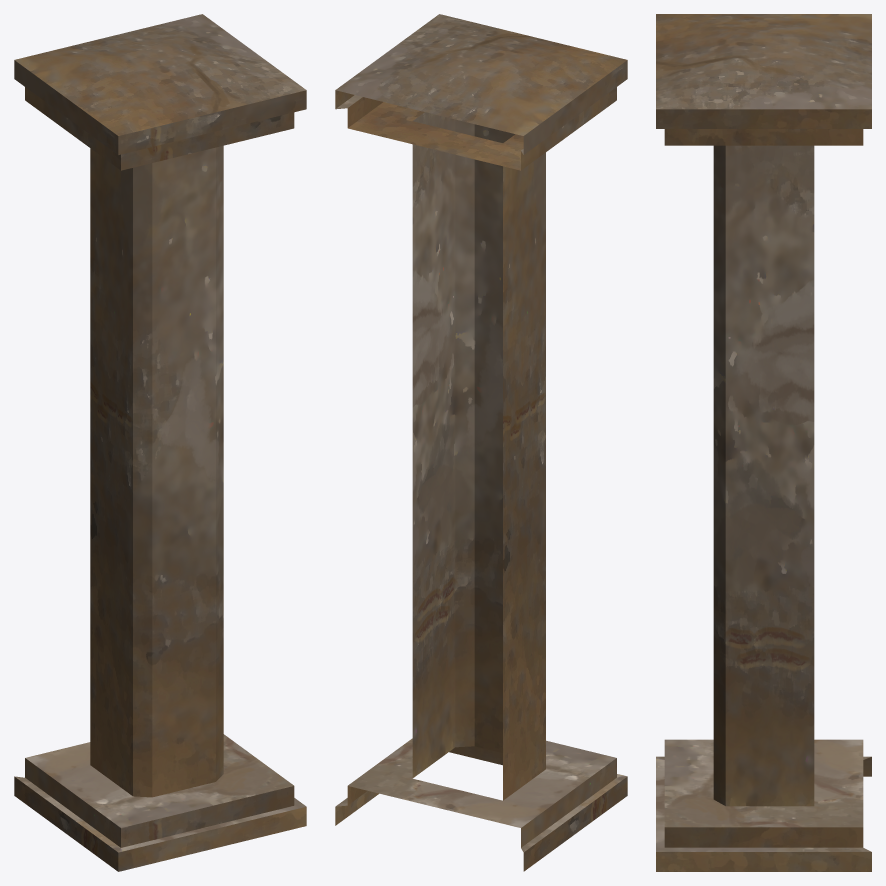
Rendered from Small_Pillier.FBX.
3 views of the same model, side by side, from view 1: azimuth 30°, elevation 25°; view 2: azimuth 150°, elevation 25°; view 3: azimuth 270°, elevation 25° (orthographic). The views are drawn at different scales.
Visible parts, largest first — view 1: Pillier_Small; view 2: Pillier_Small; view 3: Pillier_Small.
Boxes of the visible parts, x1,y1,x2,y2 form: Pillier_Small: (14, 14, 306, 871); Pillier_Small: (335, 14, 627, 871); Pillier_Small: (656, 14, 871, 871).
Bounding box in the file's own units: 102 × 388 × 97.75.
